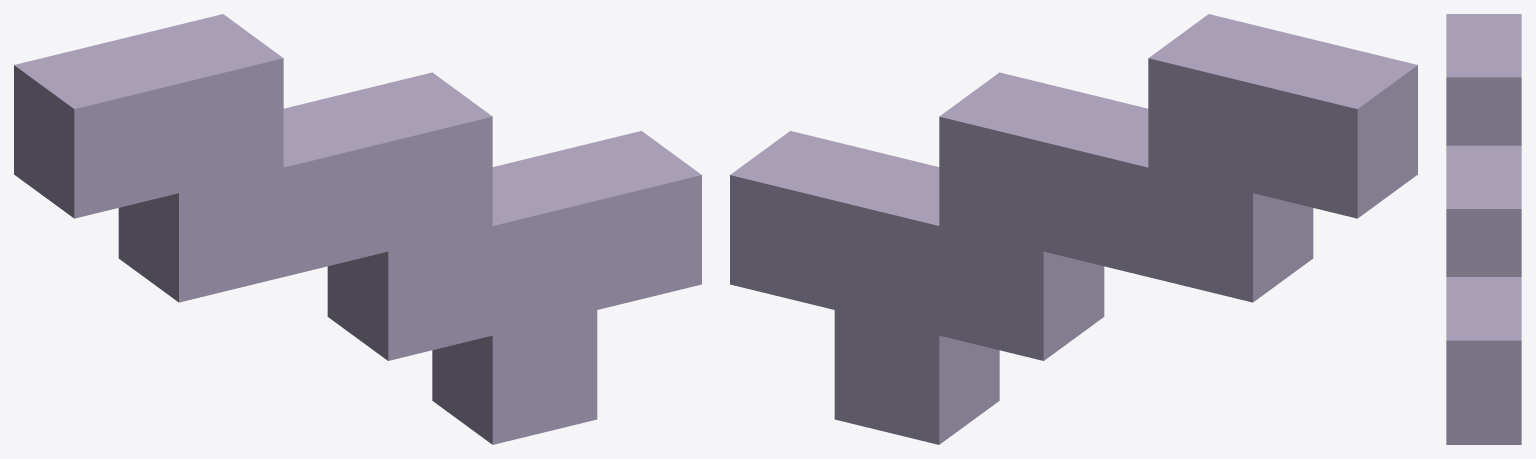
Rendered from Lightning-Small-Grey.vox.obj.
3 views of the same model, side by side, from view 1: azimuth 30°, elevation 25°; view 2: azimuth 150°, elevation 25°; view 3: azimuth 270°, elevation 25° (orthographic). The views are drawn at different scales.
Bounding box in the file's own units: 0.6 × 0.4 × 0.1.
1 material, 1 textured.
